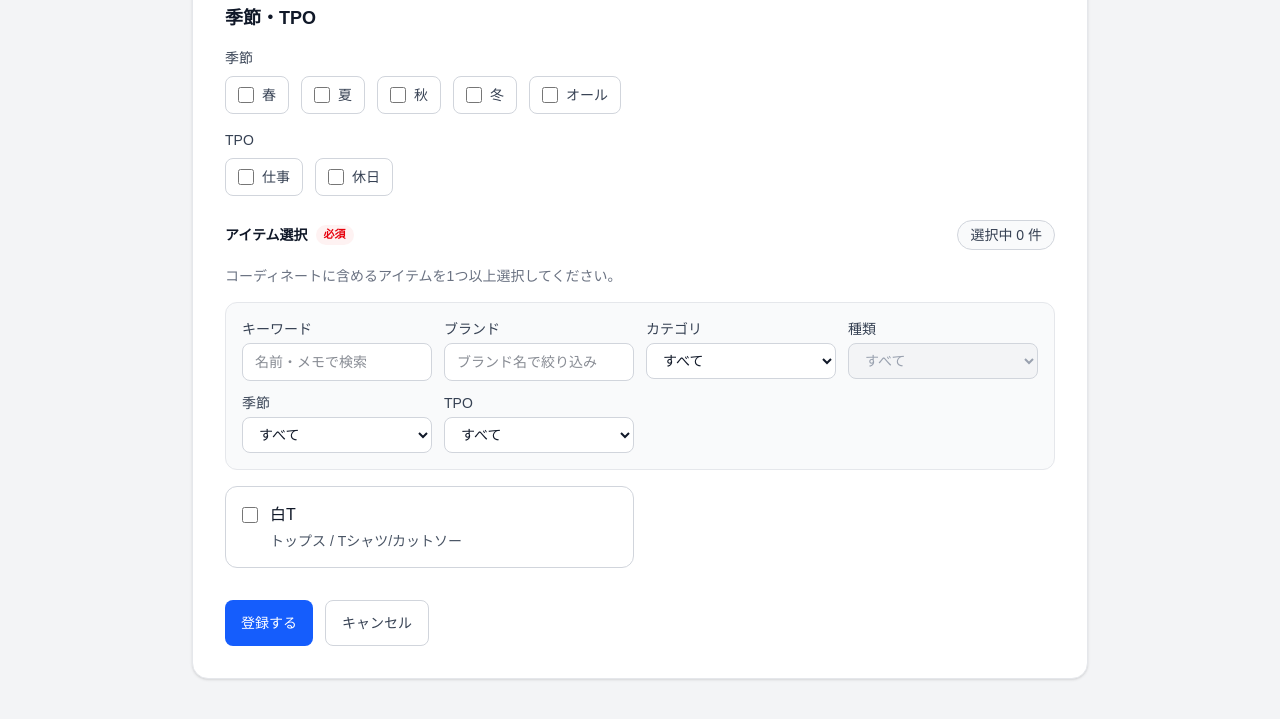
Test: NewOutfitPage › 422 の field error を項目近くに表示する
The width and height of the screenshot is (1280, 719).
(page scrolled)
Step 1. Click the checkbox labelled "白T トップス / Tシャツ/カットソー" → [250, 515], box [242, 507, 258, 523]
(page scrolled)
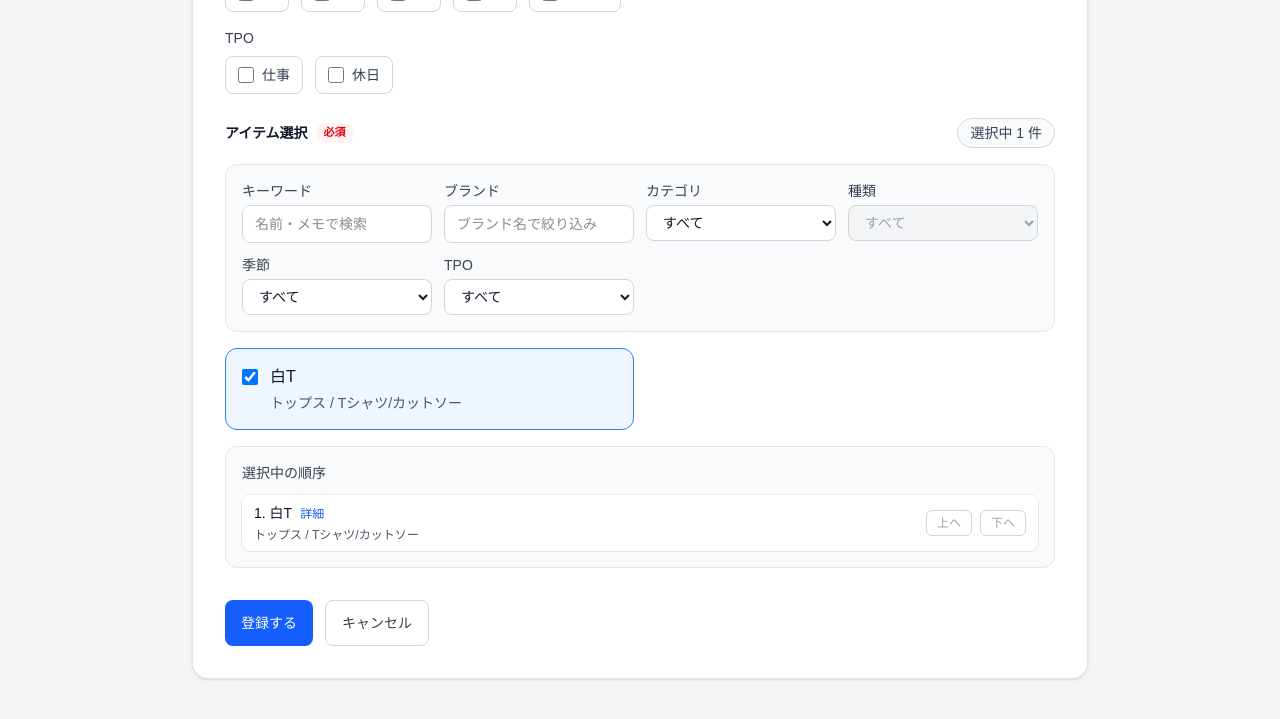
Step 2. Click the button "登録する" → [269, 623], box [225, 600, 313, 646]
(page scrolled)
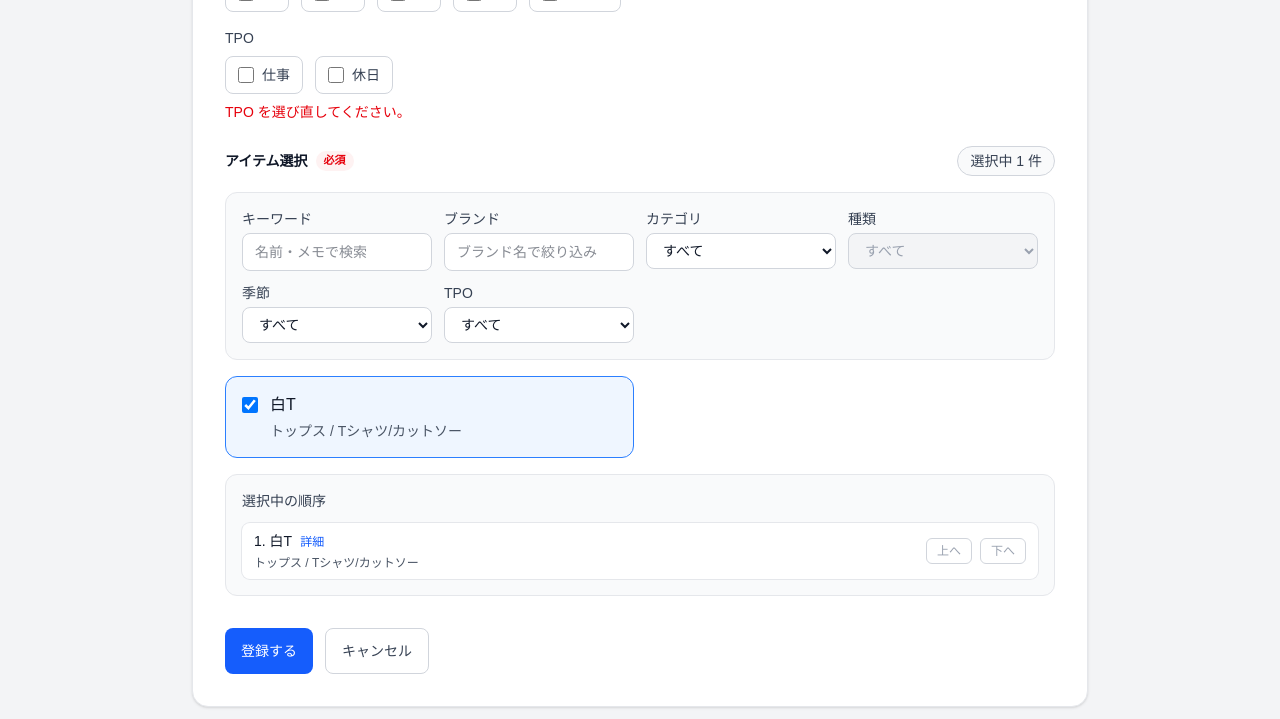
Expected: the text "TPO を選び直してください。" is shown, [225, 104, 411, 120]
